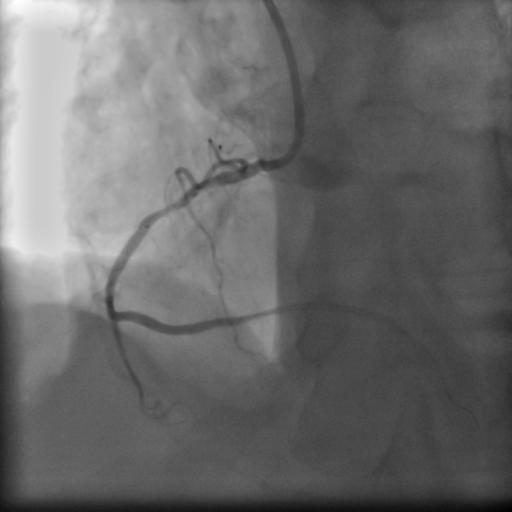Stenosis: (152, 198, 187, 214)
